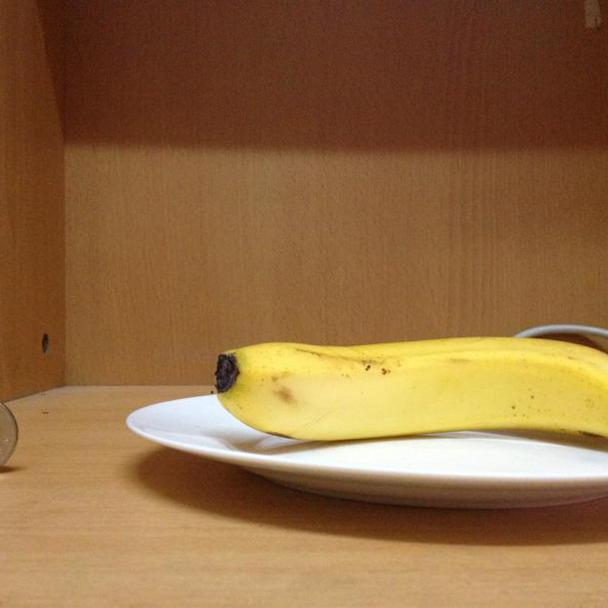banana: (212, 336, 608, 450)
